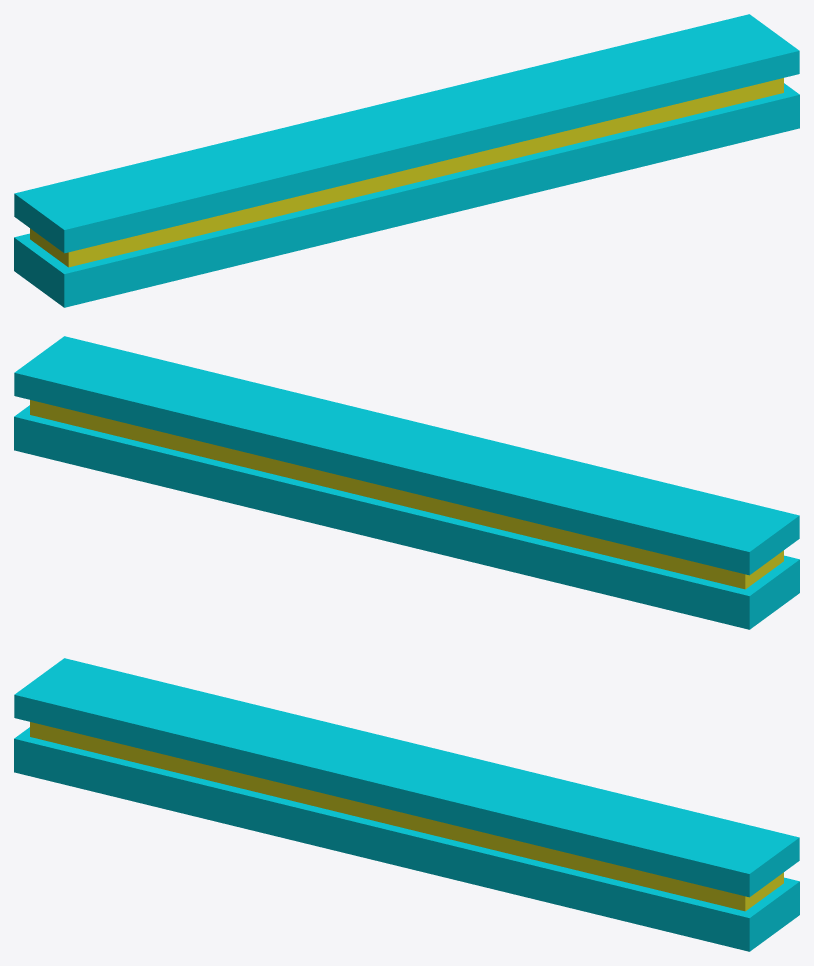
File: barra 2fbx.fbx
The picture shows the model from 3 angles, top to bottom: view 1: azimuth 30°, elevation 25°; view 2: azimuth 150°, elevation 25°; view 3: azimuth 330°, elevation 25°; orthographic projection.
Parts seen in each view (by area): view 1: Puerta_Arco.006; view 2: Puerta_Arco.006; view 3: Puerta_Arco.006.
Boxes of the visible parts, <box> form: Puerta_Arco.006: <box>14,14,799,307</box>; Puerta_Arco.006: <box>14,336,799,629</box>; Puerta_Arco.006: <box>14,658,799,951</box>.
Size of the model in its own units: 800 by 80.61 by 94.81.
